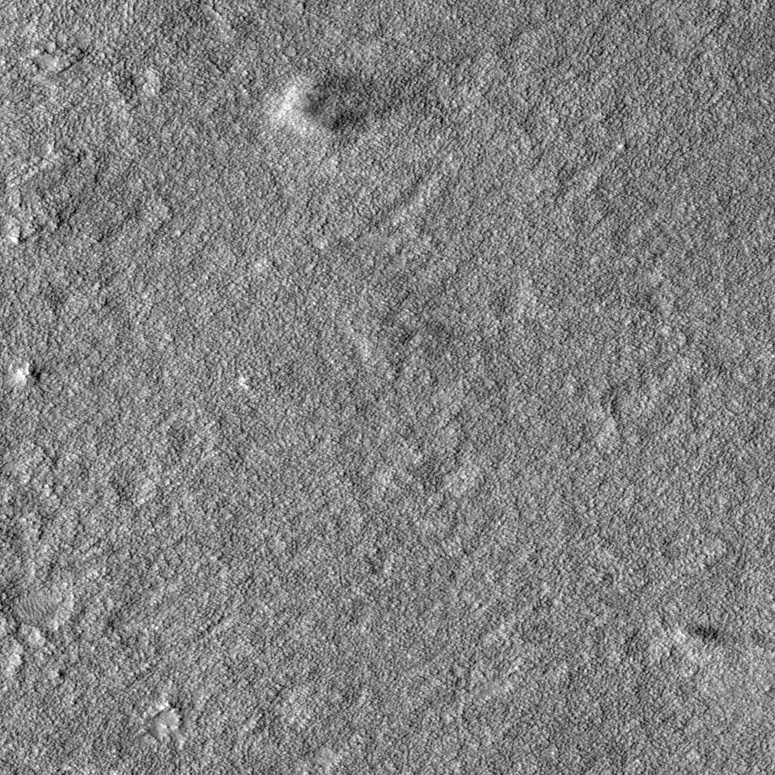dust_devil: (270, 59, 441, 145), (671, 621, 720, 649)
